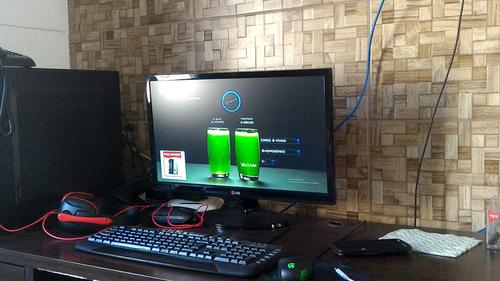Polishop #1: (159, 148, 186, 179)
